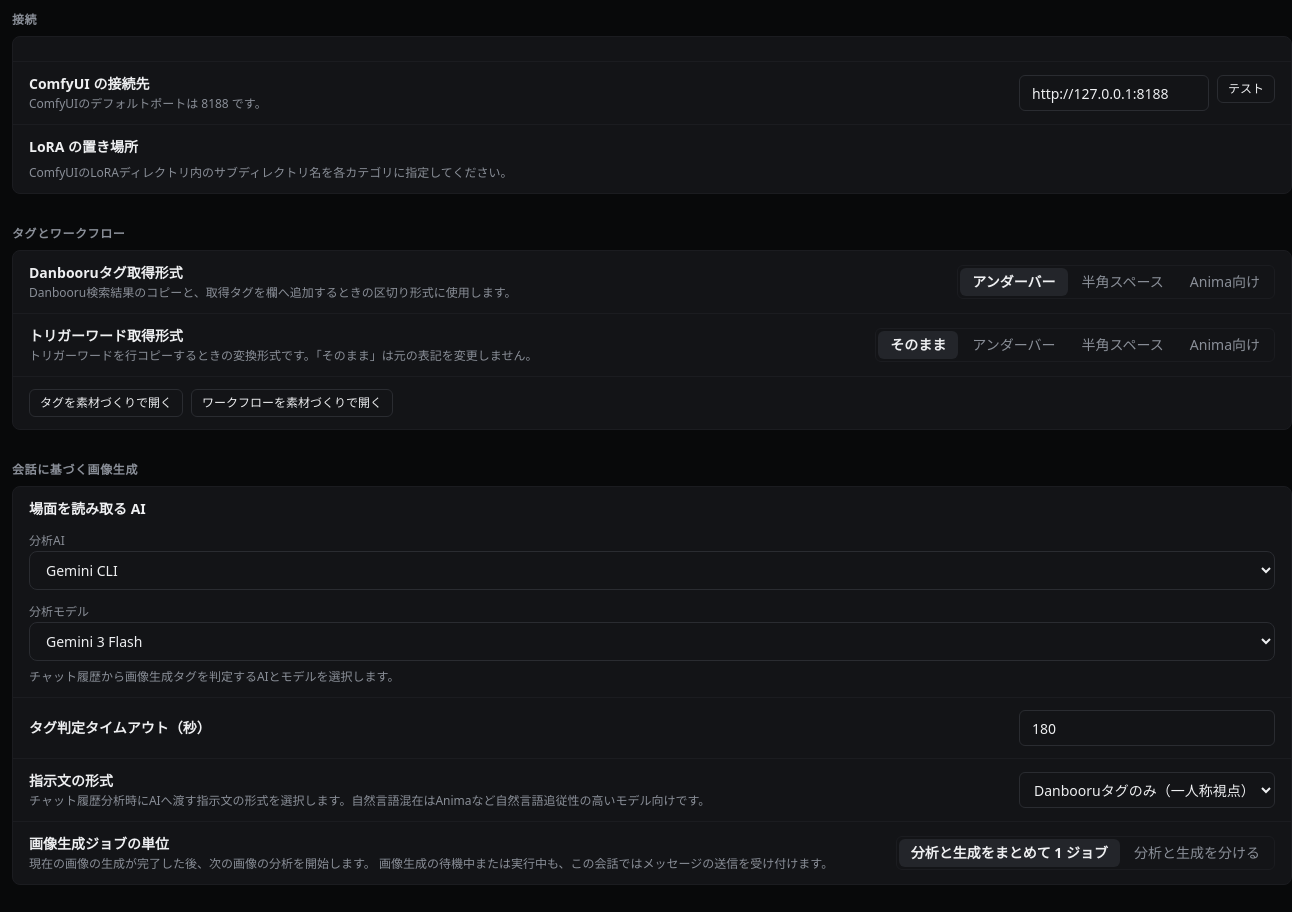
設定画面の画像生成：場面を読み取る AI › API モデルが未登録なら分析モデルを無効化して案内する
Expected: the text "分析AI" is shown, [29,532,65,549]
Select "API（OpenAI互換）" in the dropdown labelled "分析AI" at (652, 570), box [29,551,1275,590]
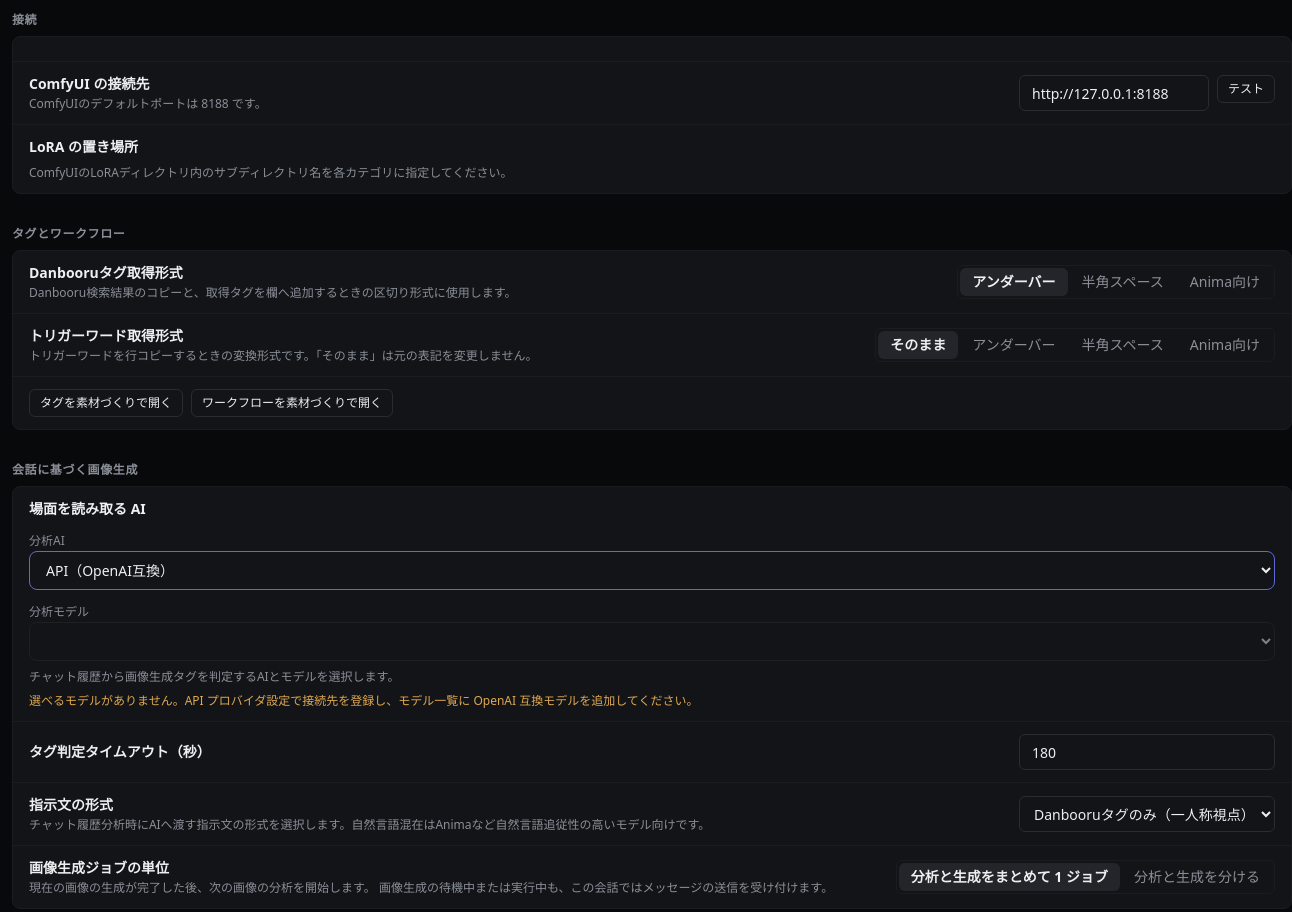
Expected: the dropdown labelled "分析モデル" is disabled, [29,622,1275,661]
Expected: the text "選べるモデルがありません" is shown, [29,692,698,709]
